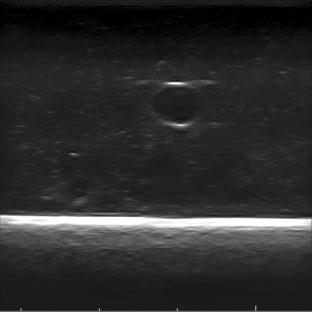vessel: (150, 81, 206, 129)
